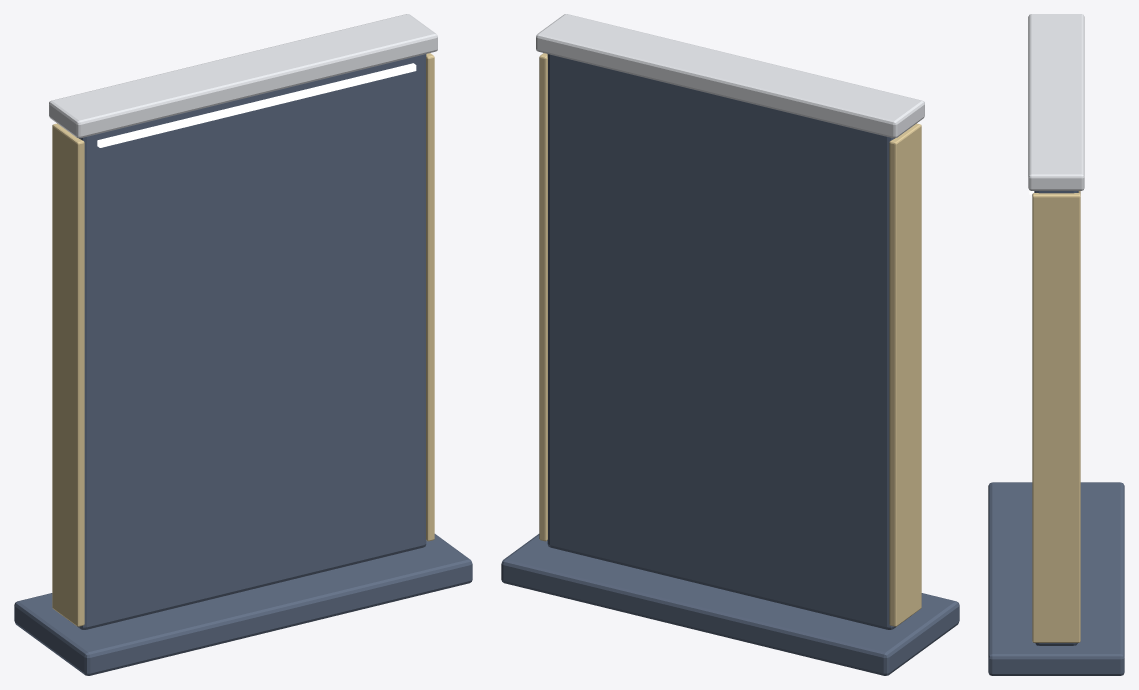
Rendered from directory_monument_v27_4.glb.
3 renders of one model, left to right at view 1: azimuth 30°, elevation 25°; view 2: azimuth 150°, elevation 25°; view 3: azimuth 270°, elevation 25°, orthographic. The views are drawn at different scales.
Visible parts, largest first — view 1: PlazaMat_DirNavy, PlazaMat_DirBrass, PlazaMat_DirSilver, PlazaMat_DirTopLED; view 2: PlazaMat_DirNavy, PlazaMat_DirBrass, PlazaMat_DirSilver; view 3: PlazaMat_DirBrass, PlazaMat_DirNavy, PlazaMat_DirSilver.
Part boxes in pixels (bbox=[...]): PlazaMat_DirNavy: bbox=[14, 54, 472, 675]; PlazaMat_DirBrass: bbox=[52, 53, 434, 626]; PlazaMat_DirSilver: bbox=[49, 14, 437, 138]; PlazaMat_DirTopLED: bbox=[97, 63, 416, 147]; PlazaMat_DirNavy: bbox=[501, 54, 959, 675]; PlazaMat_DirBrass: bbox=[539, 53, 921, 626]; PlazaMat_DirSilver: bbox=[536, 14, 924, 138]; PlazaMat_DirBrass: bbox=[1032, 191, 1080, 642]; PlazaMat_DirNavy: bbox=[988, 191, 1124, 675]; PlazaMat_DirSilver: bbox=[1028, 14, 1084, 190].
Size of the model in its own units: 2.06 by 2.73 by 0.68.
